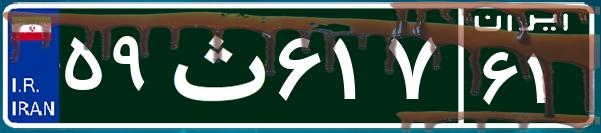1: (330, 28, 385, 110), (525, 38, 570, 115)
5: (57, 26, 110, 107)
6: (273, 28, 330, 110), (475, 38, 525, 113)
7: (385, 28, 445, 110)
9: (110, 28, 158, 105)
ث: (158, 15, 273, 115)
